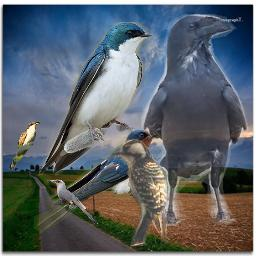Crow: (141, 14, 250, 226)
Cuckoo: (46, 179, 98, 225), (8, 121, 41, 171)
Swallow: (39, 22, 153, 176), (34, 129, 159, 234)
Woodpecker: (110, 139, 167, 246)
